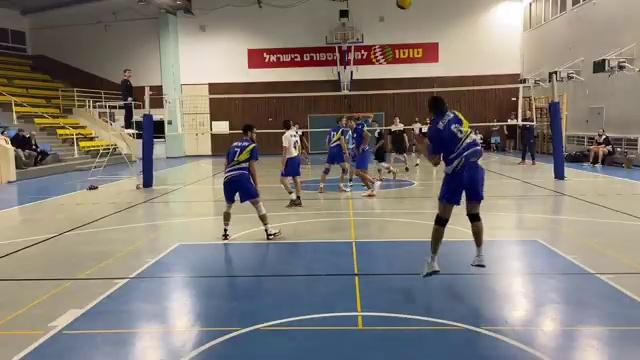ball: (394, 1, 413, 12)
